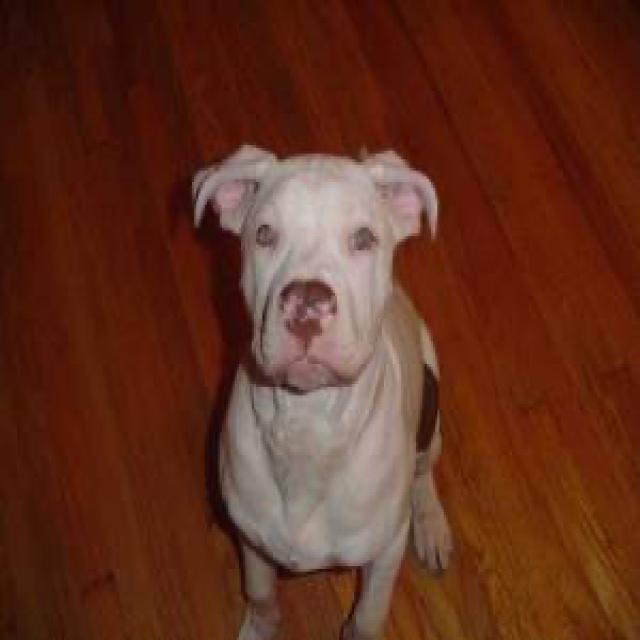dog: (188, 139, 435, 387)
